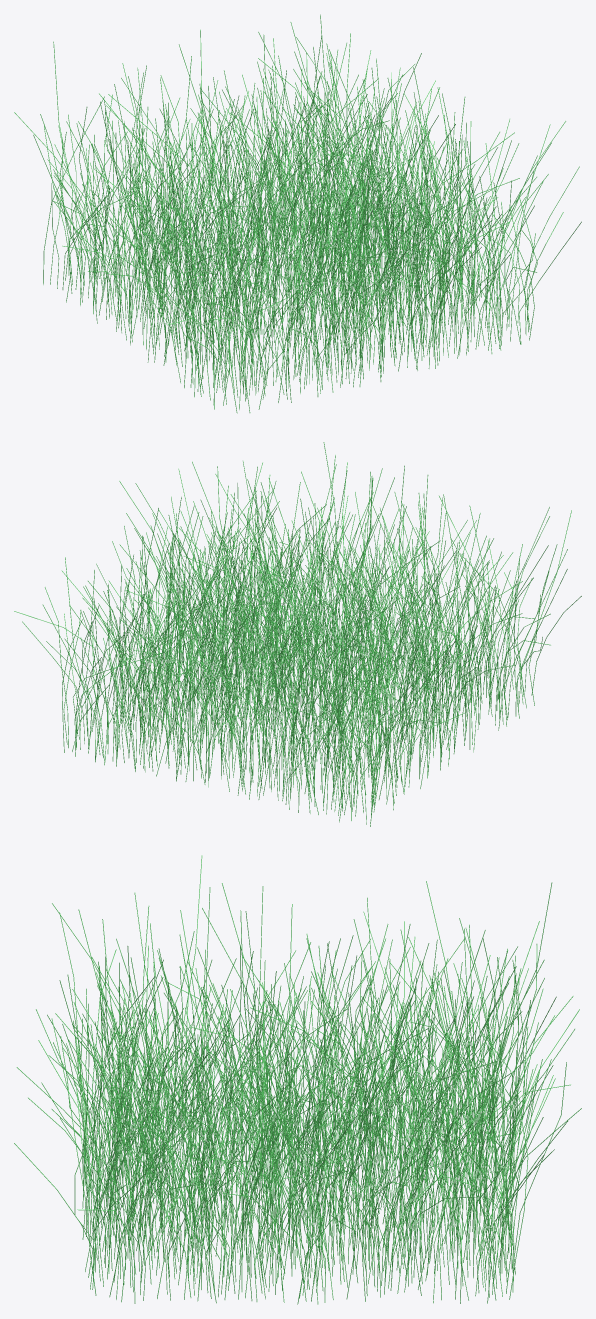
File: grasstest.glb
The picture shows the model from 3 angles, top to bottom: view 1: azimuth 30°, elevation 25°; view 2: azimuth 150°, elevation 25°; view 3: azimuth 270°, elevation 25°; orthographic projection. The views are drawn at different scales.
Parts seen in each view (by area): view 1: Mesh; view 2: Mesh; view 3: Mesh.
Boxes of the visible parts, bbox=[...] form: Mesh: bbox=[14, 14, 581, 413]; Mesh: bbox=[14, 442, 581, 826]; Mesh: bbox=[14, 855, 581, 1304].
Bounding box in the file's own units: 1.59 × 0.7547 × 1.51.
